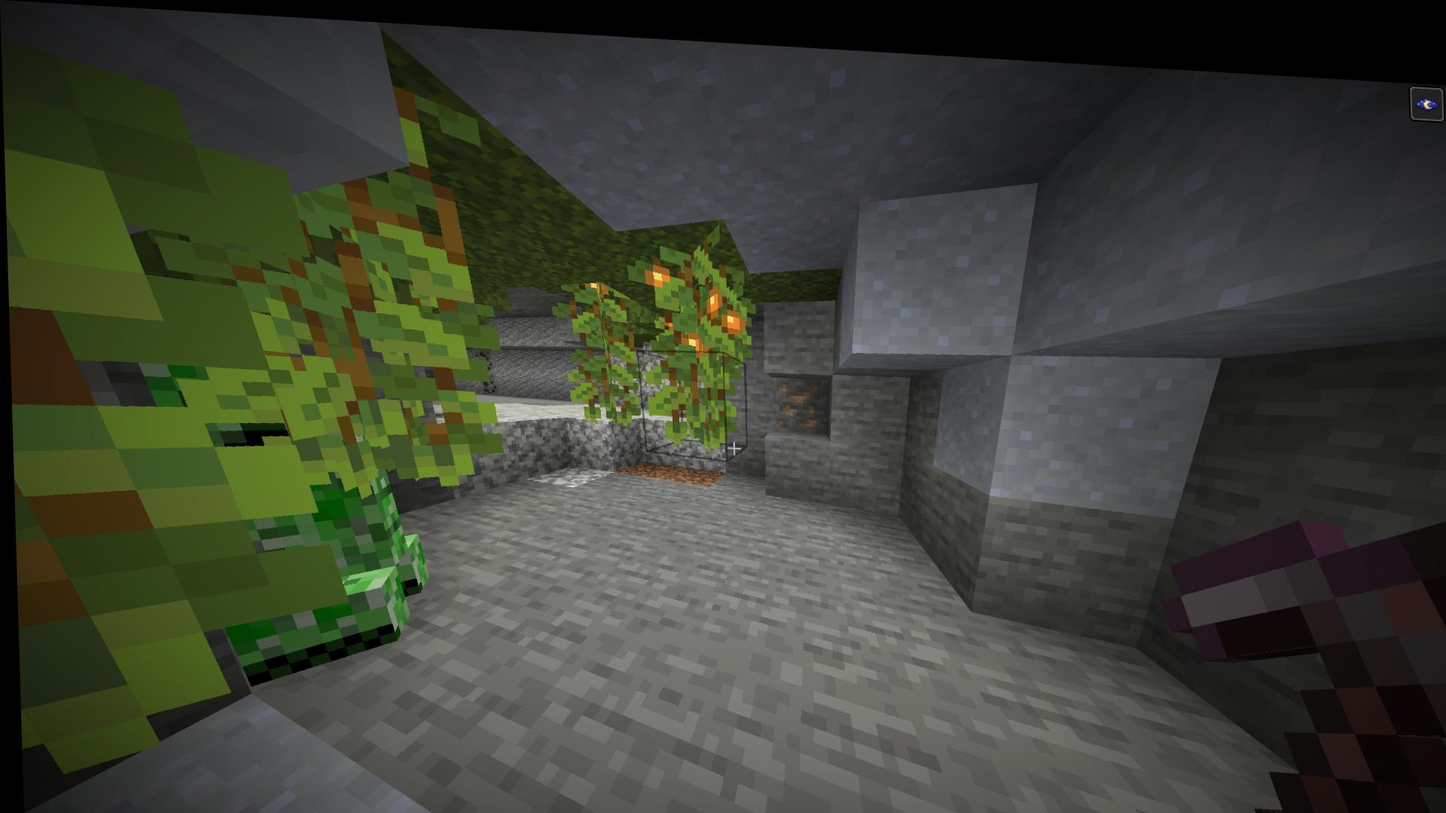iron ore: (770, 365, 829, 425)
